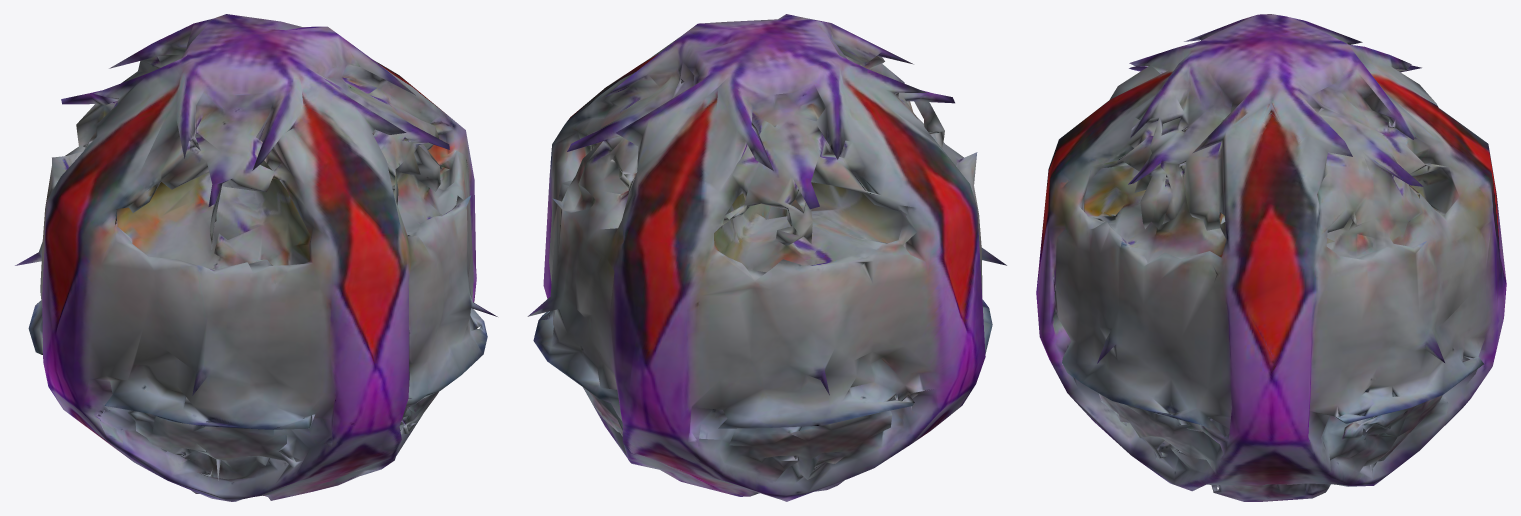
The model's file is b07ba8777ca0_a_red_and_purple_cr.fbx.
3 views of the same model, side by side, from view 1: azimuth 30°, elevation 25°; view 2: azimuth 150°, elevation 25°; view 3: azimuth 270°, elevation 25° (orthographic).
Parts seen in each view (by area): view 1: mesh; view 2: mesh; view 3: mesh.
Part boxes in pixels (bbox=[...]): mesh: bbox=[15, 14, 497, 501]; mesh: bbox=[527, 14, 1006, 501]; mesh: bbox=[1036, 14, 1506, 501].
Size of the model in its own units: 96.86 by 100 by 97.02.
